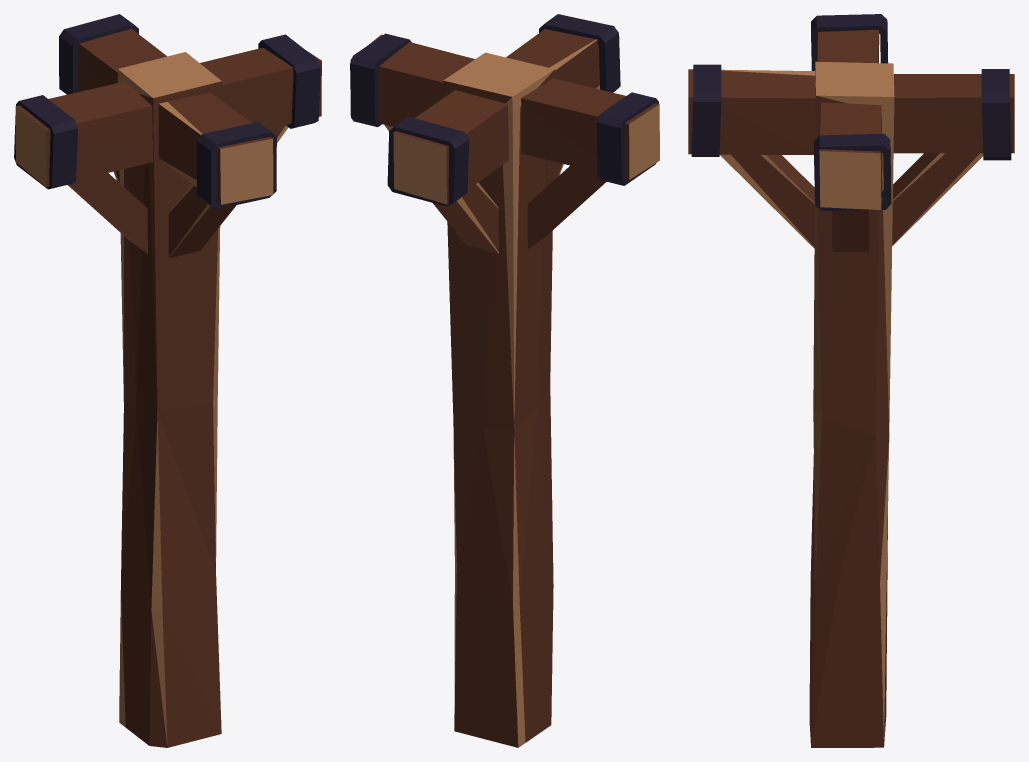
File: MCastle_InteriorSupports_04.FBX
3 views of the same model, side by side, from view 1: azimuth 30°, elevation 25°; view 2: azimuth 150°, elevation 25°; view 3: azimuth 270°, elevation 25° (orthographic).
Visible parts, largest first — view 1: MCastle_InteriorSupports_04_LOD0; view 2: MCastle_InteriorSupports_04_LOD0; view 3: MCastle_InteriorSupports_04_LOD0.
Boxes of the visible parts, x1,y1,x2,y2 form: MCastle_InteriorSupports_04_LOD0: (14,14,321,747); MCastle_InteriorSupports_04_LOD0: (350,14,659,747); MCastle_InteriorSupports_04_LOD0: (688,14,1014,747).
Size of what is drawn, in the model's own units: 78.21 by 176 by 79.59.
